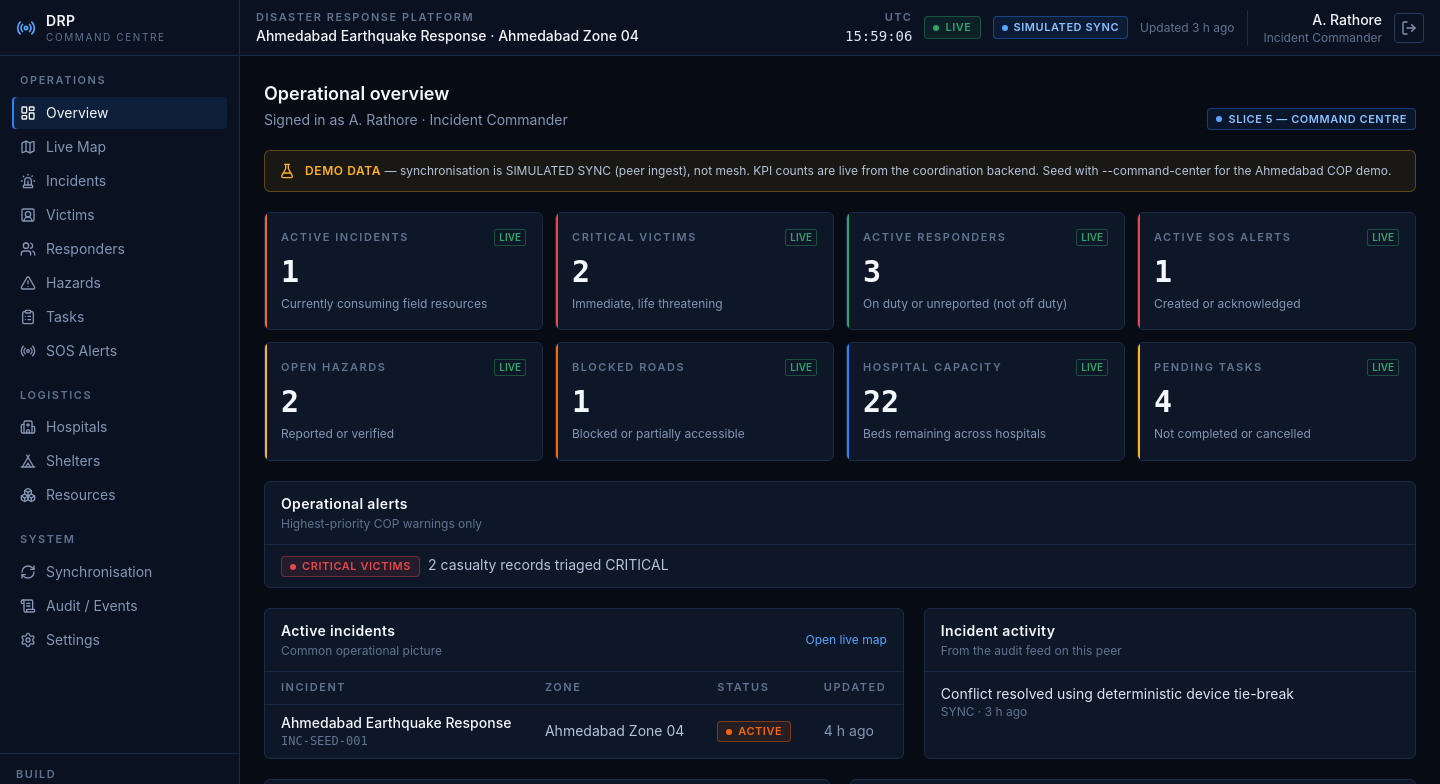
Test: authenticated routing › signs the user out and returns to the login screen
The width and height of the screenshot is (1440, 784).
expect the heading "Operational overview" is shown: met, box x1=264 y1=83 x2=449 y2=104
Click the button named "sign out" at (1409, 28), box x1=1394 y1=12 x2=1424 y2=42
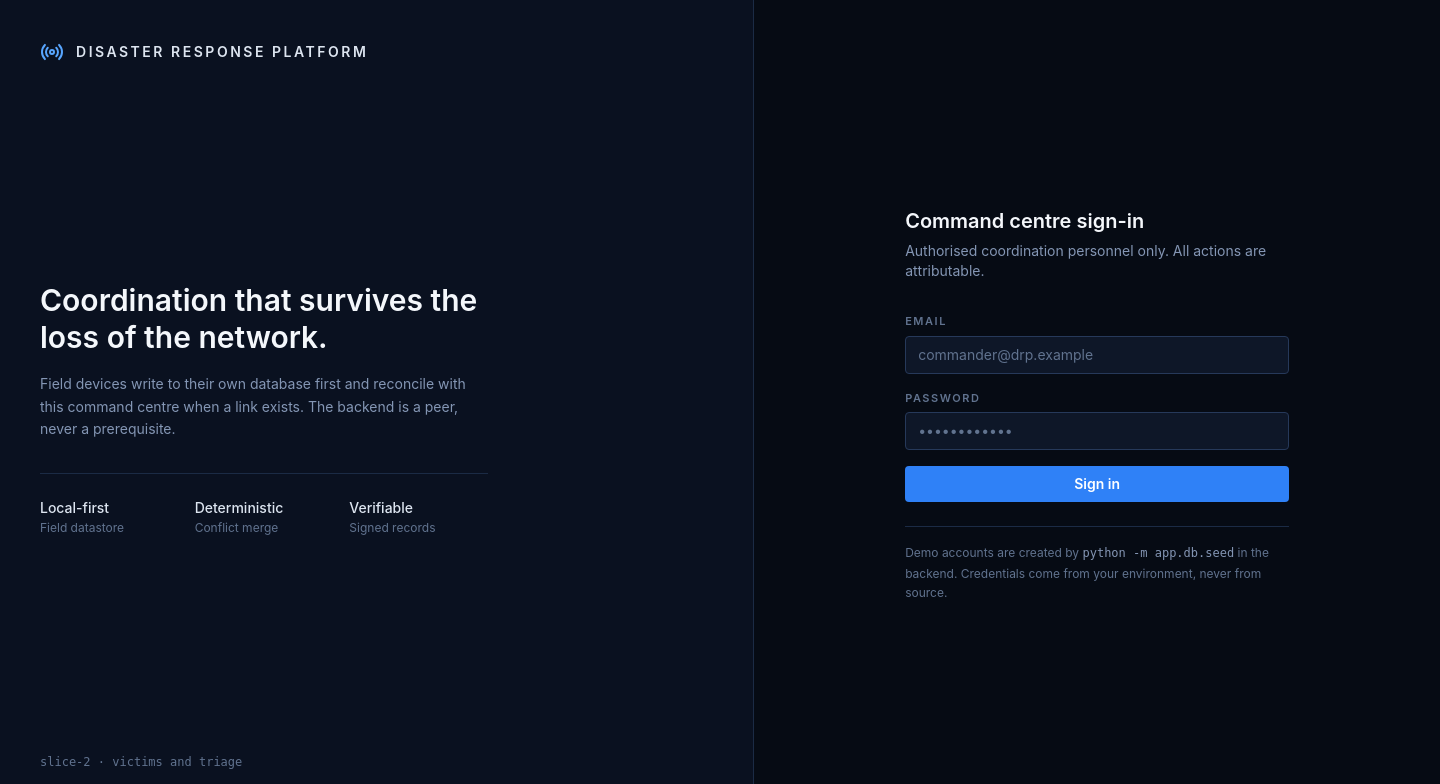
expect the heading "Command centre sign-in" is shown: met, box x1=905 y1=209 x2=1144 y2=233
